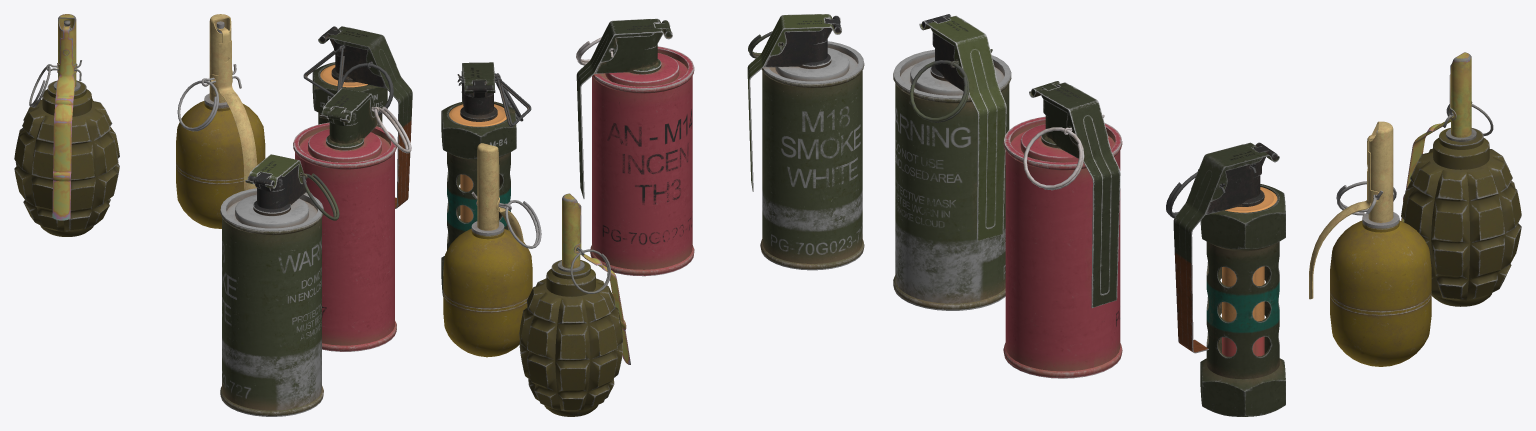
File: game_ready_grenades_set.glb
3 views of the same model, side by side, from view 1: azimuth 30°, elevation 25°; view 2: azimuth 150°, elevation 25°; view 3: azimuth 270°, elevation 25° (orthographic). The views are drawn at different scales.
Parts seen in each view (by area): view 1: M18, M14, F1, RGD-5, M84; view 2: M14, M18, F1, RGD-5, M84; view 3: M14, M18, M84, F1, RGD-5.
Part boxes in pixels (x1=…): M18: x1=220, y1=154, x2=339, y2=416; M14: x1=293, y1=88, x2=411, y2=351; F1: x1=14, y1=14, x2=119, y2=236; RGD-5: x1=176, y1=14, x2=265, y2=228; M84: x1=303, y1=26, x2=412, y2=208; M14: x1=576, y1=18, x2=694, y2=276; M18: x1=747, y1=14, x2=864, y2=270; F1: x1=519, y1=193, x2=630, y2=416; RGD-5: x1=443, y1=143, x2=541, y2=357; M84: x1=441, y1=62, x2=531, y2=296; M14: x1=1003, y1=81, x2=1122, y2=378; M18: x1=893, y1=14, x2=1011, y2=310; M84: x1=1166, y1=142, x2=1285, y2=416; F1: x1=1401, y1=52, x2=1521, y2=306; RGD-5: x1=1309, y1=121, x2=1431, y2=366.
Size of the model in its own units: 0.2347 by 0.1762 by 0.3858.
Materials: 5 (5 with a texture image).
